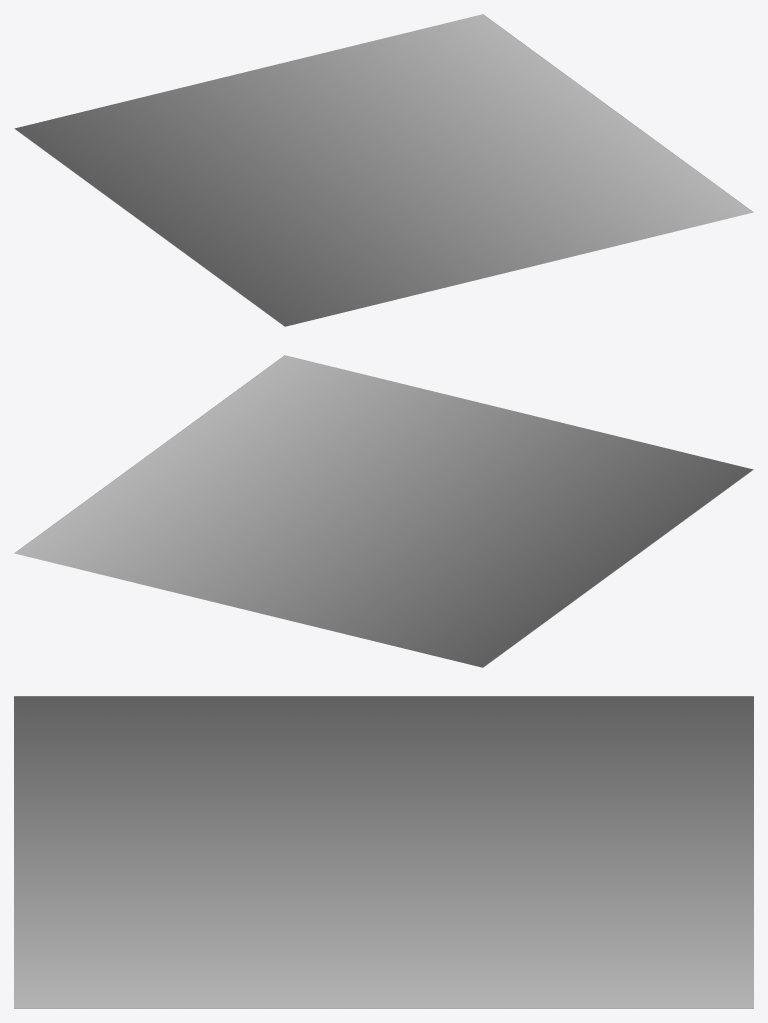
The model's file is terrain.obj.
The picture shows the model from 3 angles, top to bottom: view 1: azimuth 30°, elevation 25°; view 2: azimuth 150°, elevation 25°; view 3: azimuth 270°, elevation 25°; orthographic projection. The views are drawn at different scales.
Bounding box in the file's own units: 1 × 0 × 1.
Materials: 1 (1 with a texture image).
